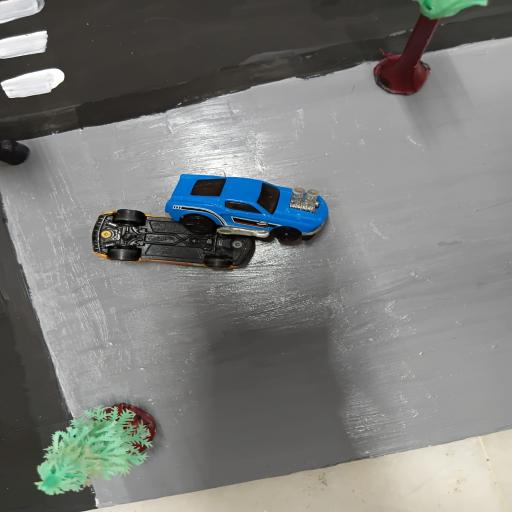car crash: (163, 171, 341, 245), (88, 205, 264, 275)
